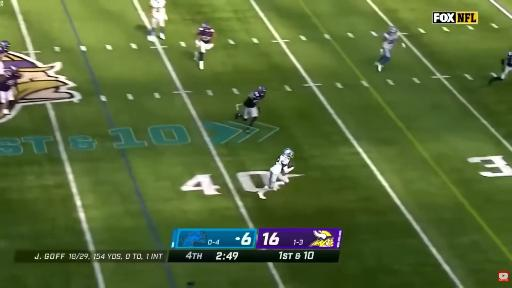Helmet: (0, 41, 10, 51), (283, 148, 293, 158), (10, 65, 18, 73), (201, 22, 211, 28), (389, 26, 397, 33), (258, 85, 266, 91)
Jersey: (0, 70, 20, 91), (270, 155, 290, 174), (244, 91, 264, 107), (150, 0, 166, 18), (198, 27, 214, 43), (383, 32, 398, 49), (505, 56, 511, 67), (0, 61, 4, 75)
Player: (258, 148, 294, 199), (235, 86, 266, 132), (376, 26, 398, 71), (0, 67, 20, 114), (195, 23, 215, 70), (148, 0, 167, 41), (488, 52, 511, 84), (0, 41, 10, 81)
